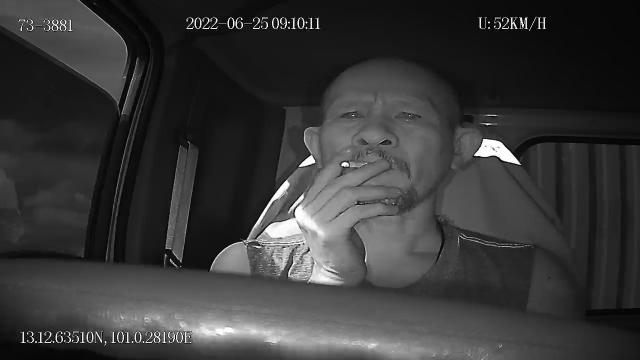SafeDriving: (388, 100, 428, 130), (331, 100, 370, 128)
Smoking: (340, 160, 370, 168)
